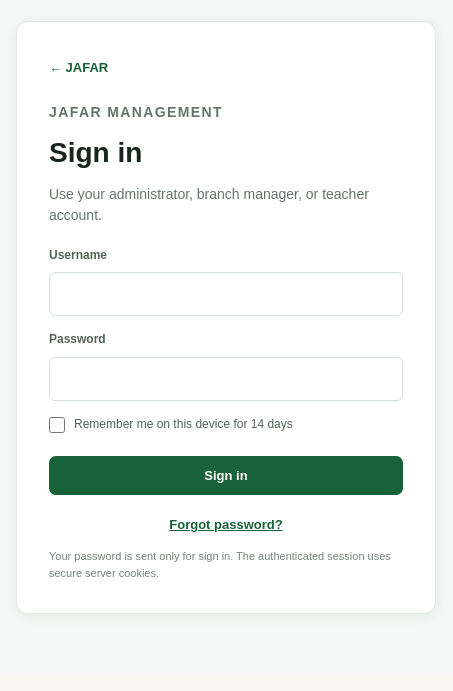
Test: Login › shows the server's error message on invalid credentials (HTTP 401)
Expected: the heading "Sign in" is shown, [49,137,142,168]
In the field labelled "Username": (226, 294) [49,272,403,316], type "teacher1"
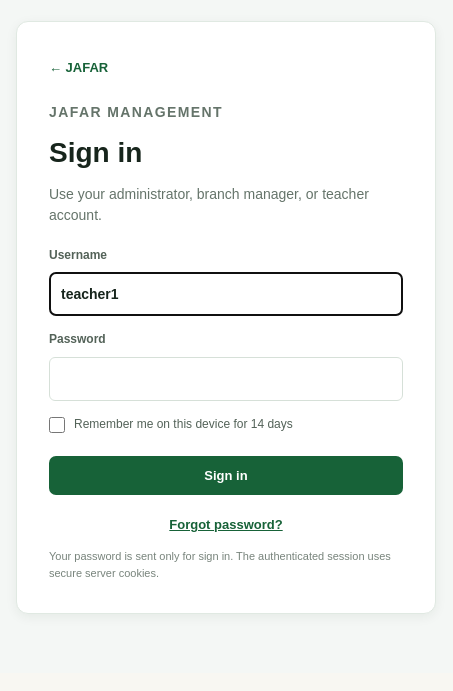
In the password field labelled "Password": (226, 379) [49,357,403,401], type "wrongpass"
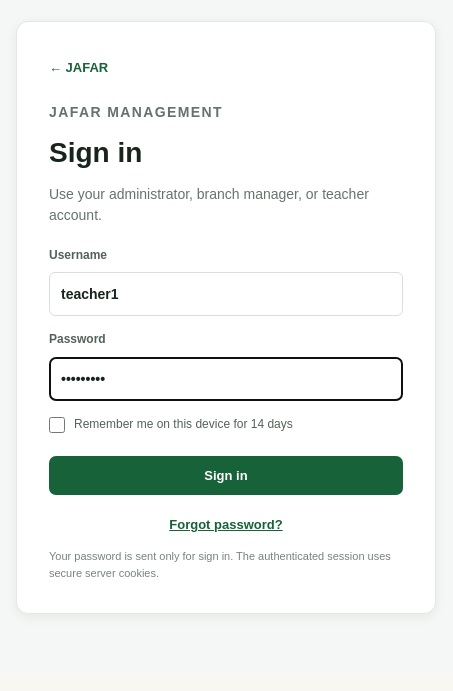
Click the button "Sign in": (226, 476) [49,456,403,495]
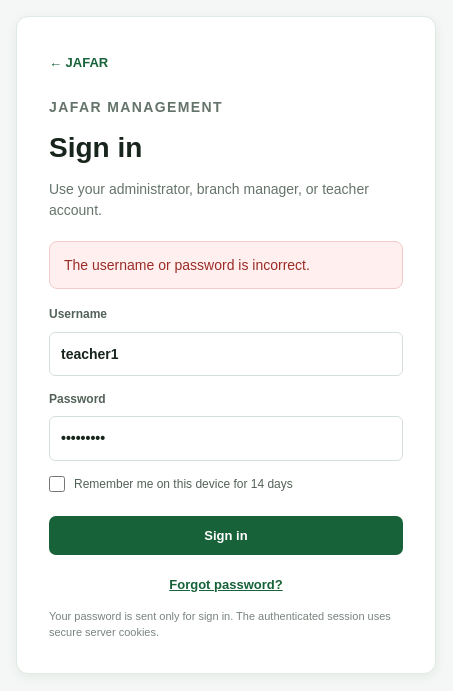
Now the message reads "The username or password is incorrect.", box [64,257,310,273]
